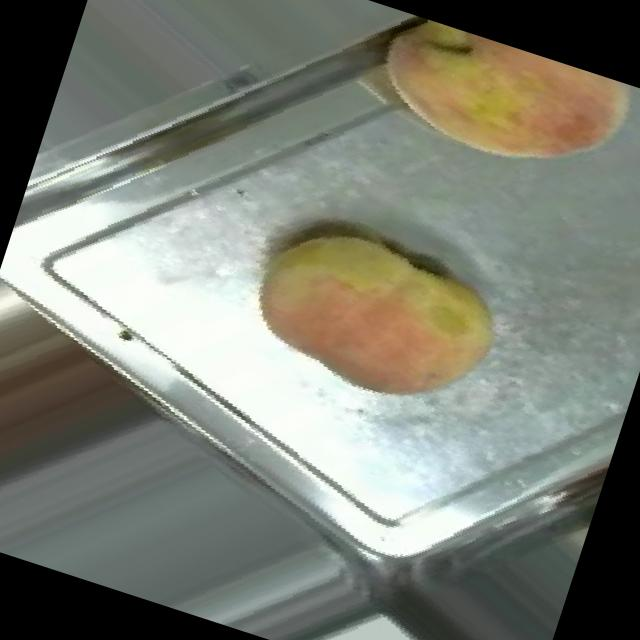Fruit: (207, 170, 544, 458), (0, 263, 205, 592), (338, 2, 640, 219)
